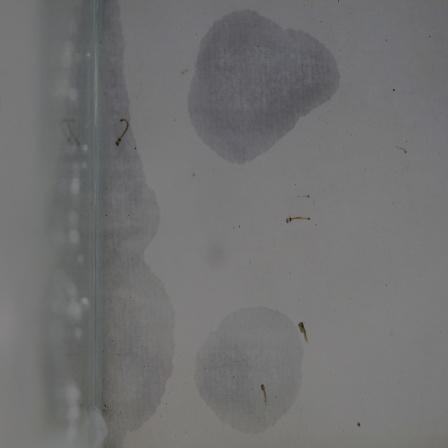Jentik-Nyamuk: (279, 206, 317, 232), (109, 113, 133, 150), (295, 316, 313, 345), (256, 377, 272, 409)
